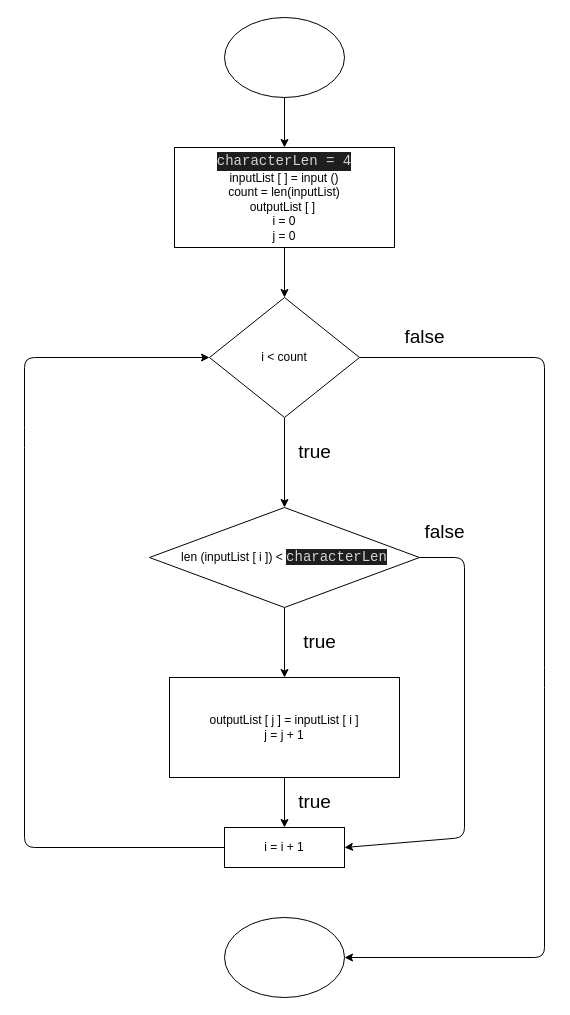
The diagram is 570 pixels wide and 1015 high, and some of its shapes have lost their labels. The shapes that lost their labels are listed below. From the top down, each one's centre as x and y in pixels, then its label:
At (284,57): "Start".
At (284,957): "End".
